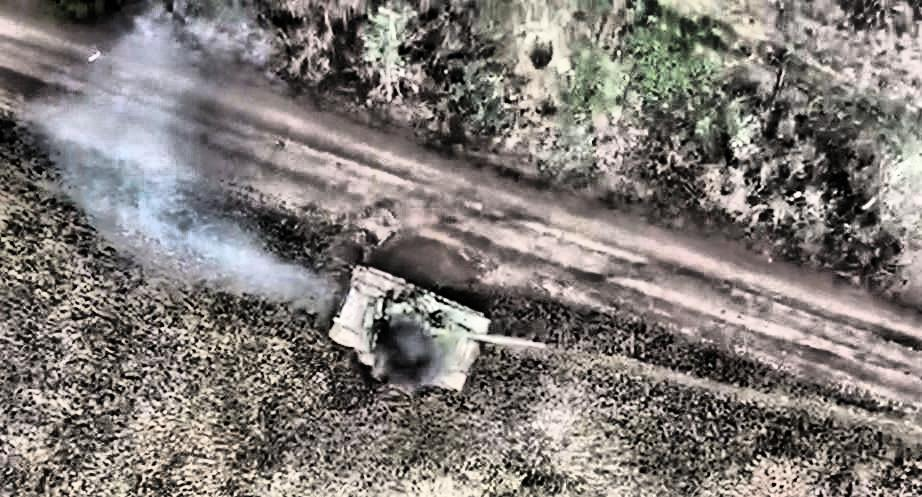military-vehicle: (328, 261, 548, 394)
